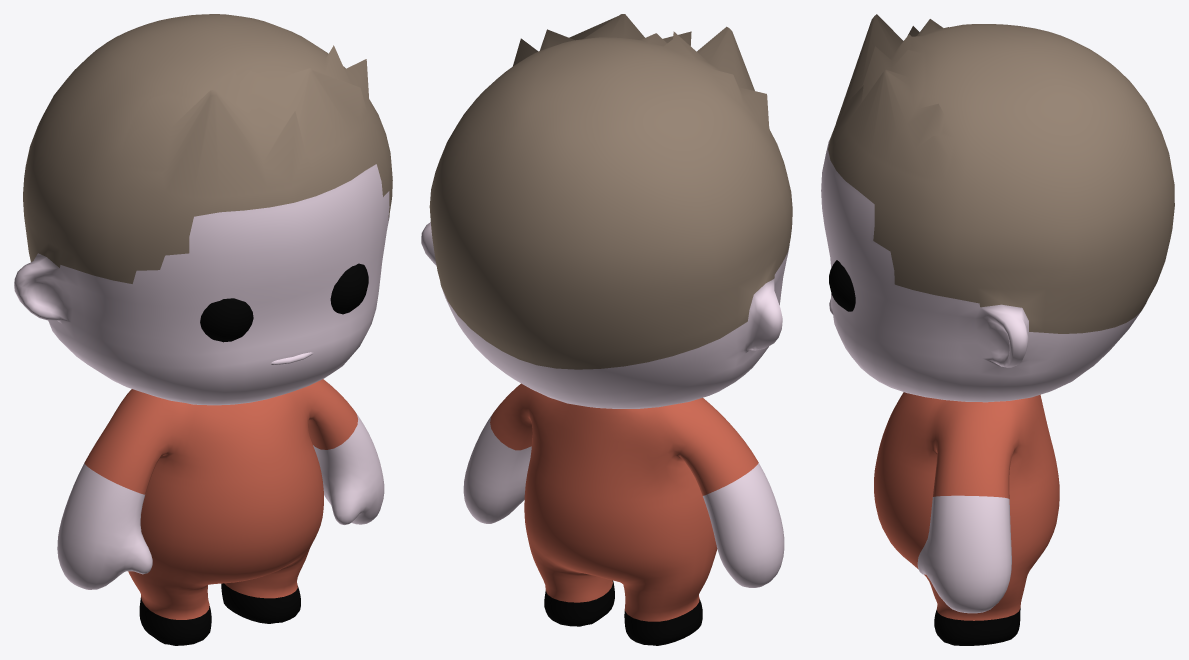
Rendered from PSJ_STILES.fbx.
3 renders of one model, left to right at view 1: azimuth 30°, elevation 25°; view 2: azimuth 150°, elevation 25°; view 3: azimuth 270°, elevation 25°, orthographic.
Visible parts, largest first — view 1: pSphere3; view 2: pSphere3; view 3: pSphere3.
Part boxes in pixels (left/top/right/bottom): pSphere3: left=14, top=14, right=392, bottom=645; pSphere3: left=421, top=14, right=792, bottom=645; pSphere3: left=821, top=14, right=1174, bottom=645.
Bounding box in the file's own units: 31.64 × 48.24 × 27.
